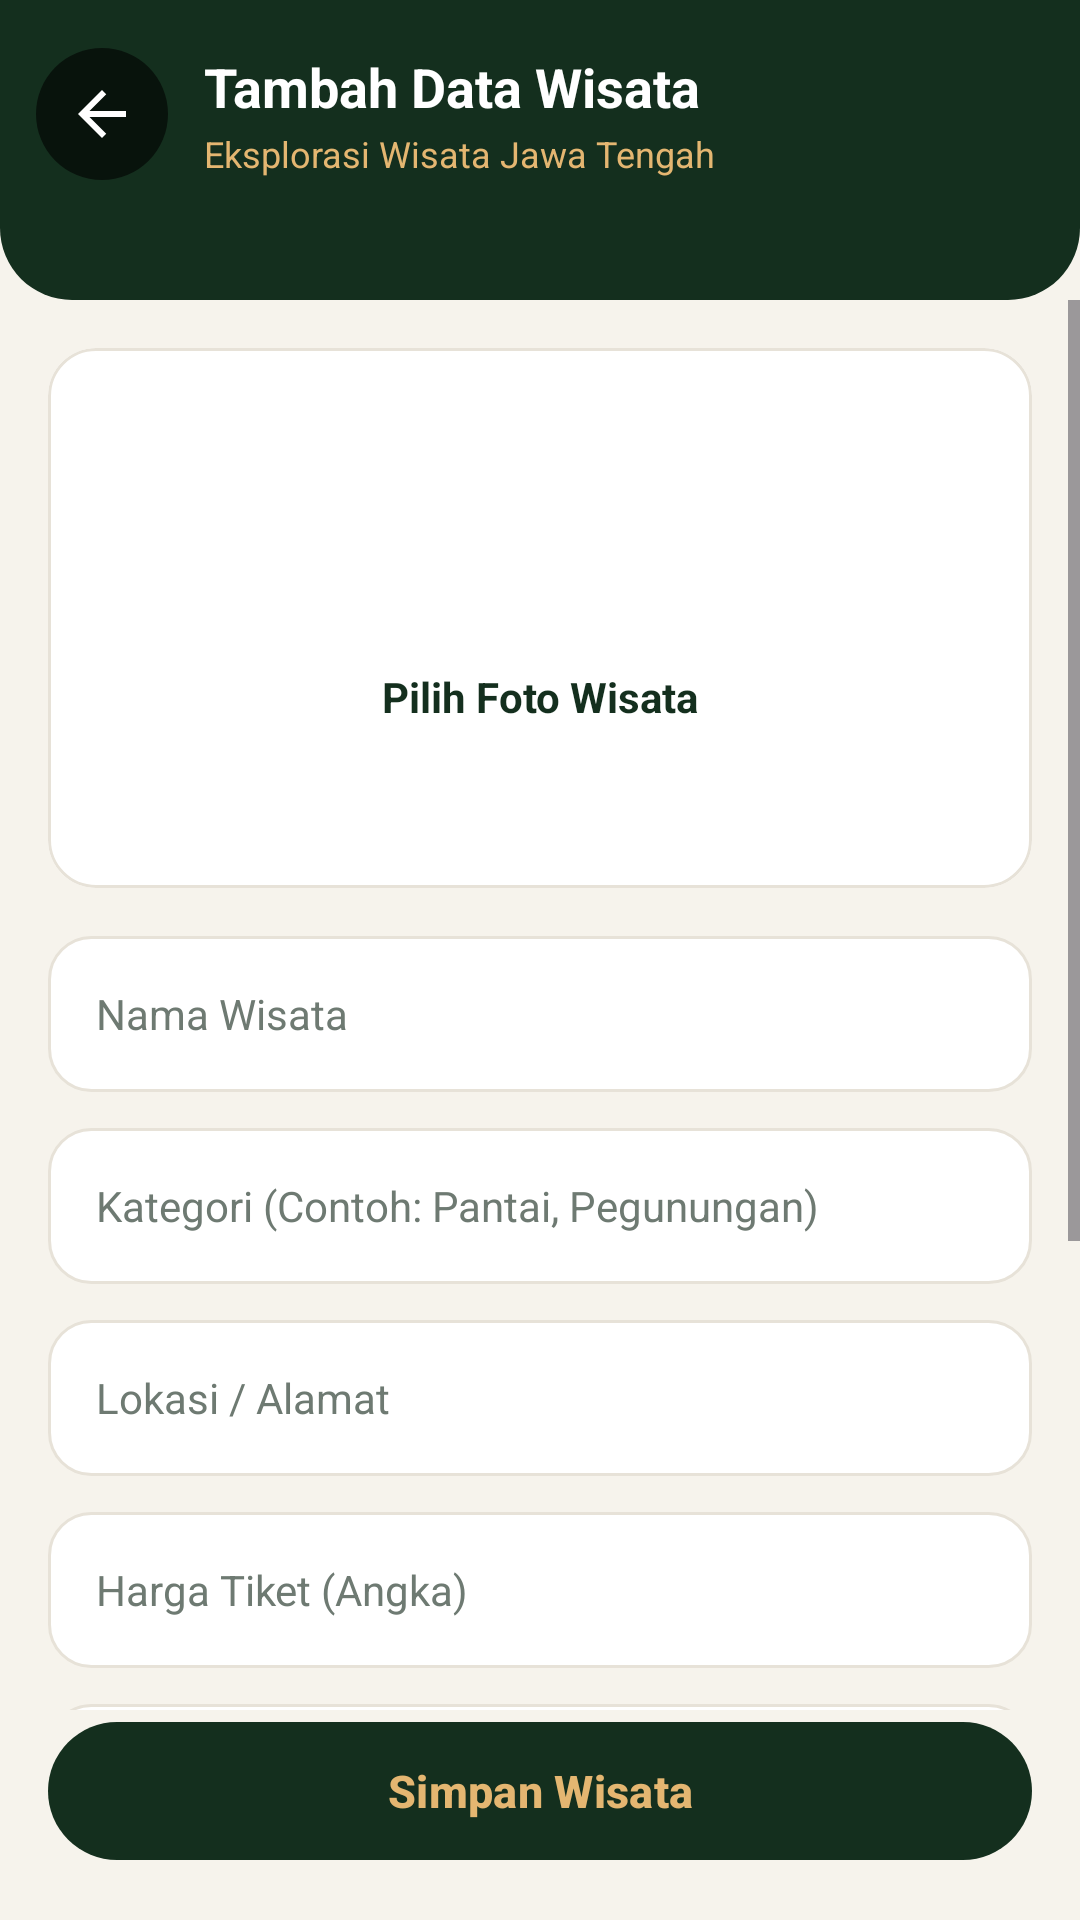

Icons on this 1080x1920 Android screen, each with the point to tap as point (x, y):
Kembali: point (102, 114)
